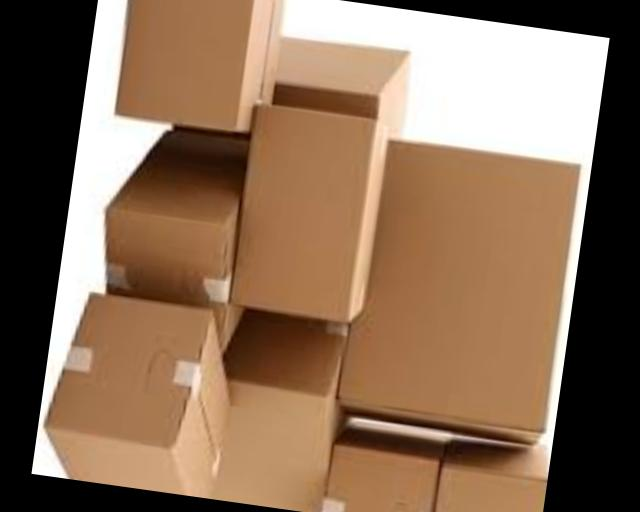cardboard paper: (45, 0, 585, 512), (343, 145, 582, 445), (51, 299, 232, 499), (235, 111, 388, 325), (217, 314, 350, 512), (121, 0, 285, 133), (285, 44, 410, 136), (331, 435, 446, 512), (445, 445, 550, 512)
